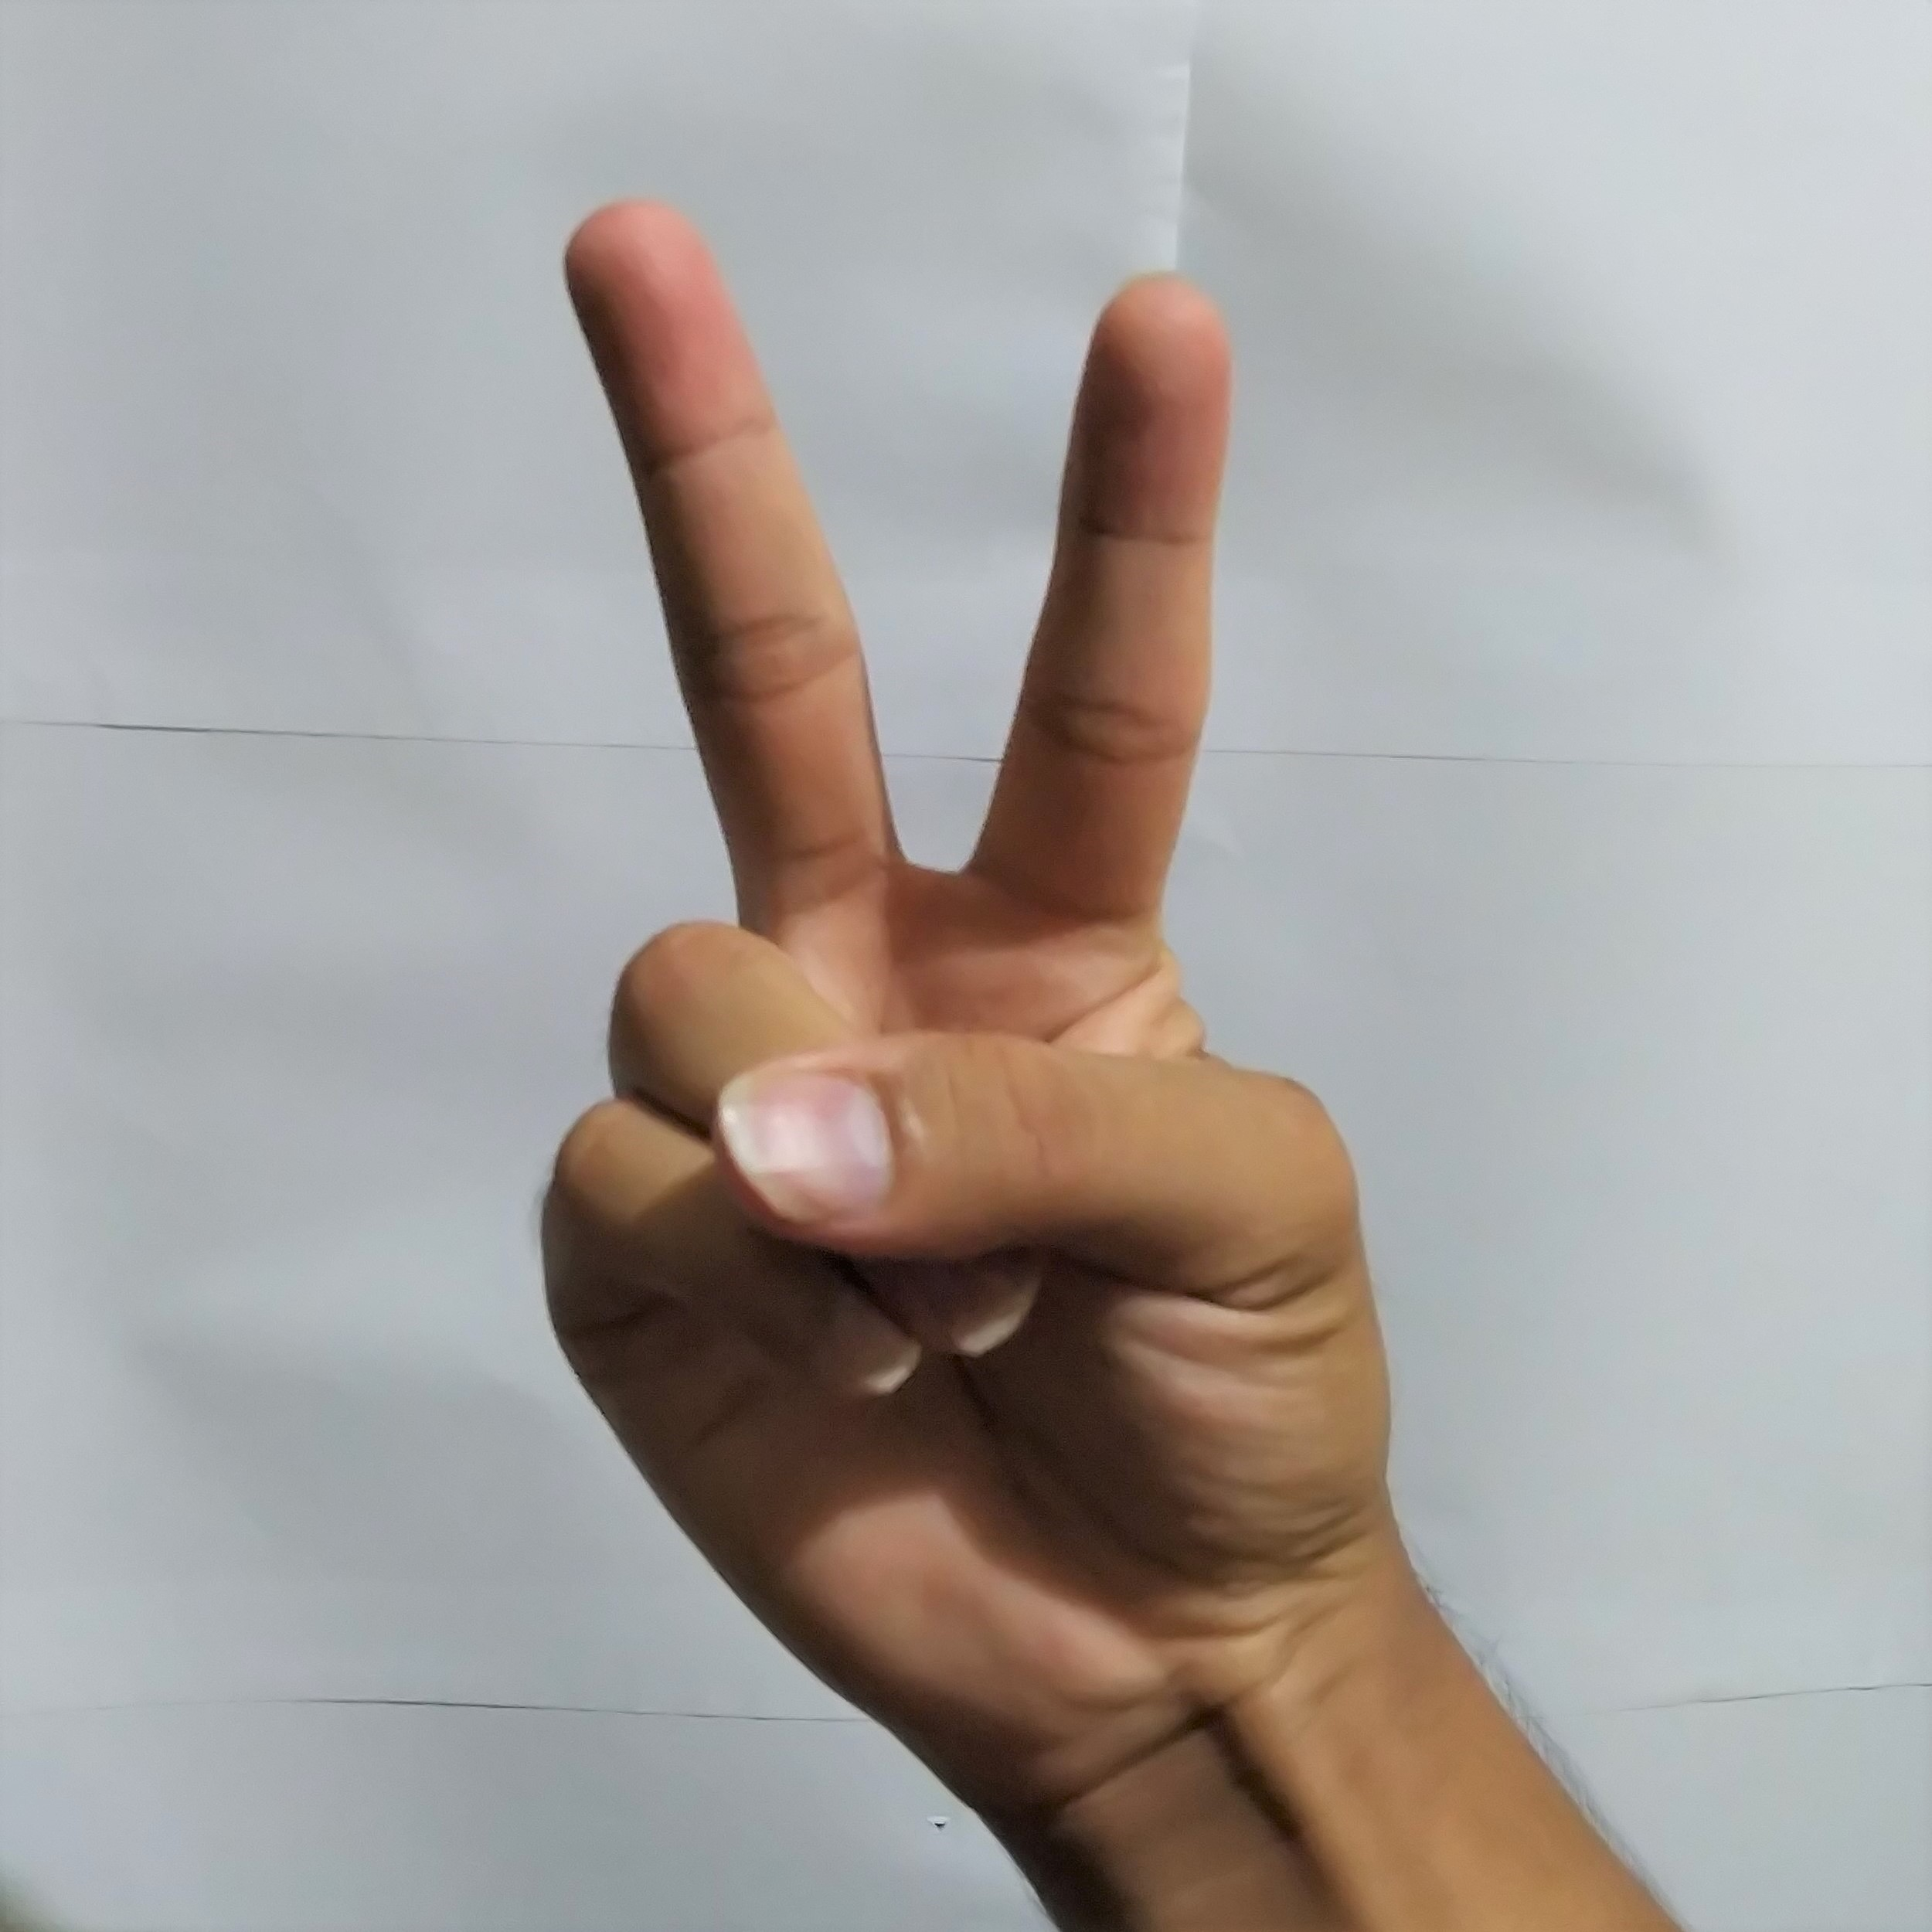V: (502, 172, 1532, 1757)
